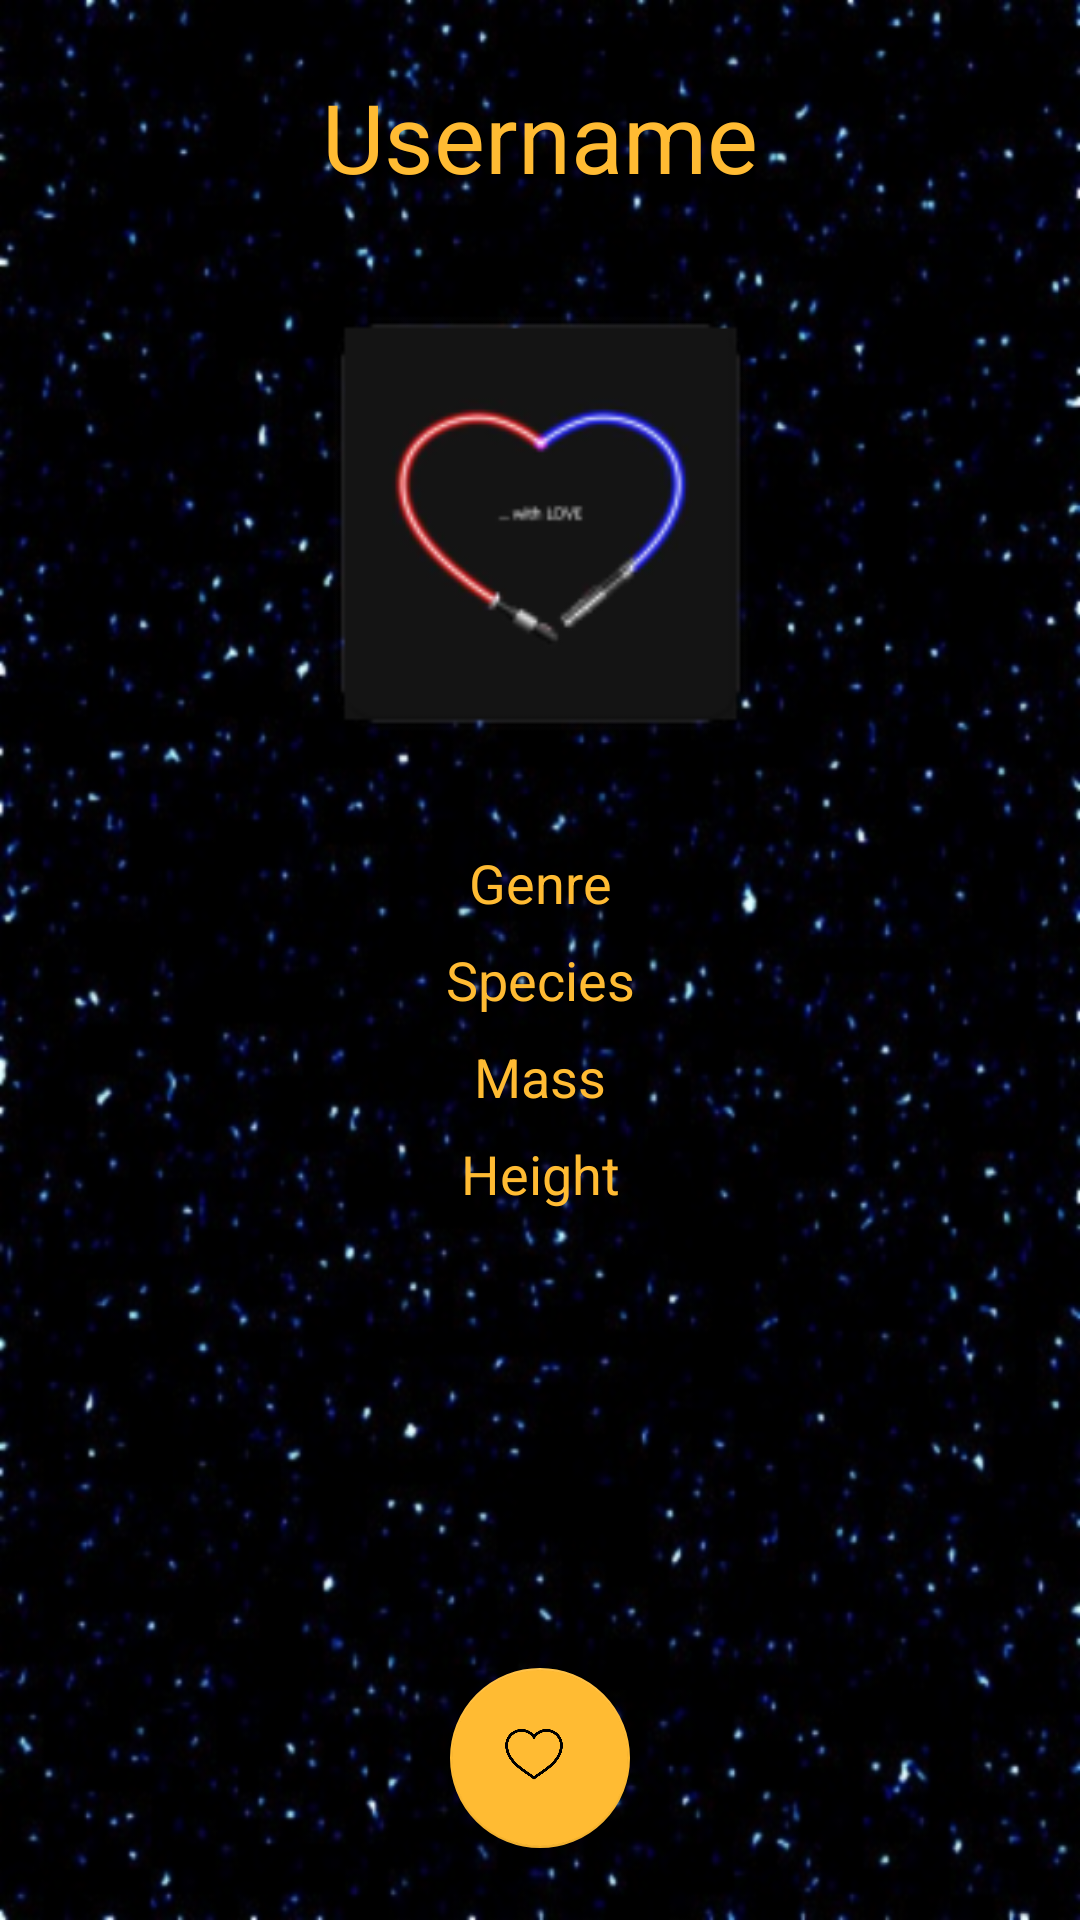

Screen size 1080x1920. Icon name, then its box in pixels as {"x1": x1, "y1": y1, "x2": x2, "y2": y2}:
heart: {"x1": 450, "y1": 1668, "x2": 630, "y2": 1848}
